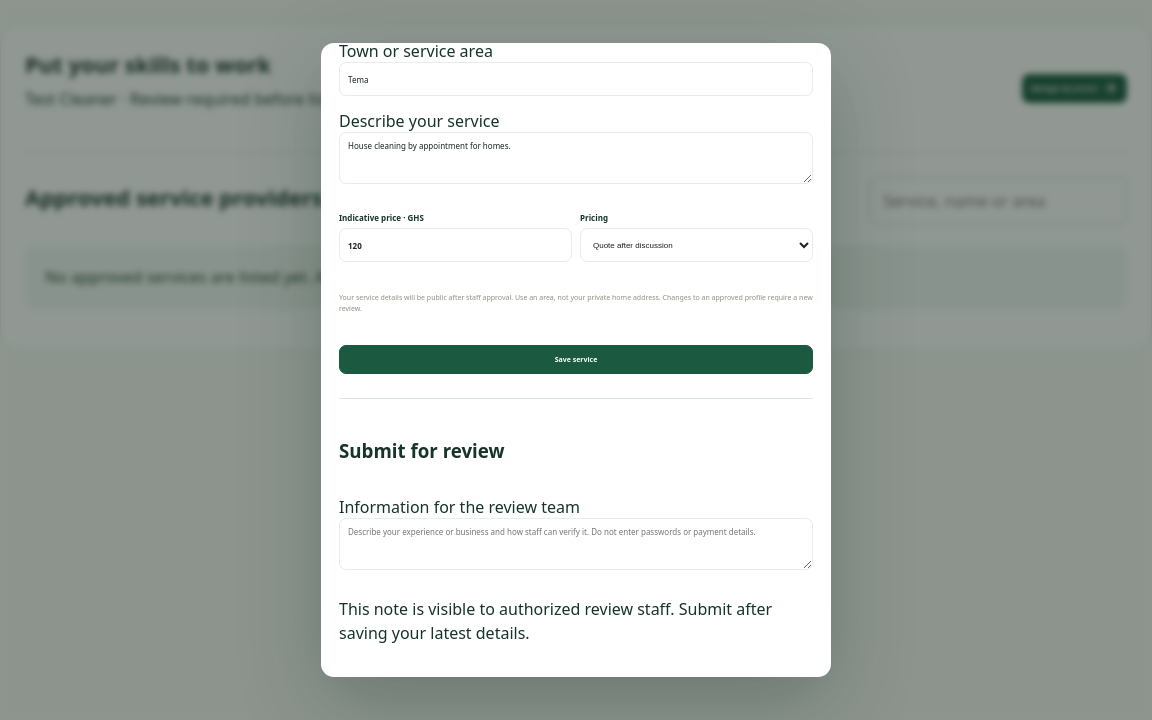
Test: provider onboarding › shows a failed save without claiming success
(page scrolled)
Click the button "Save service" at {"x": 576, "y": 360}, box [339,345,813,374]
(page scrolled)
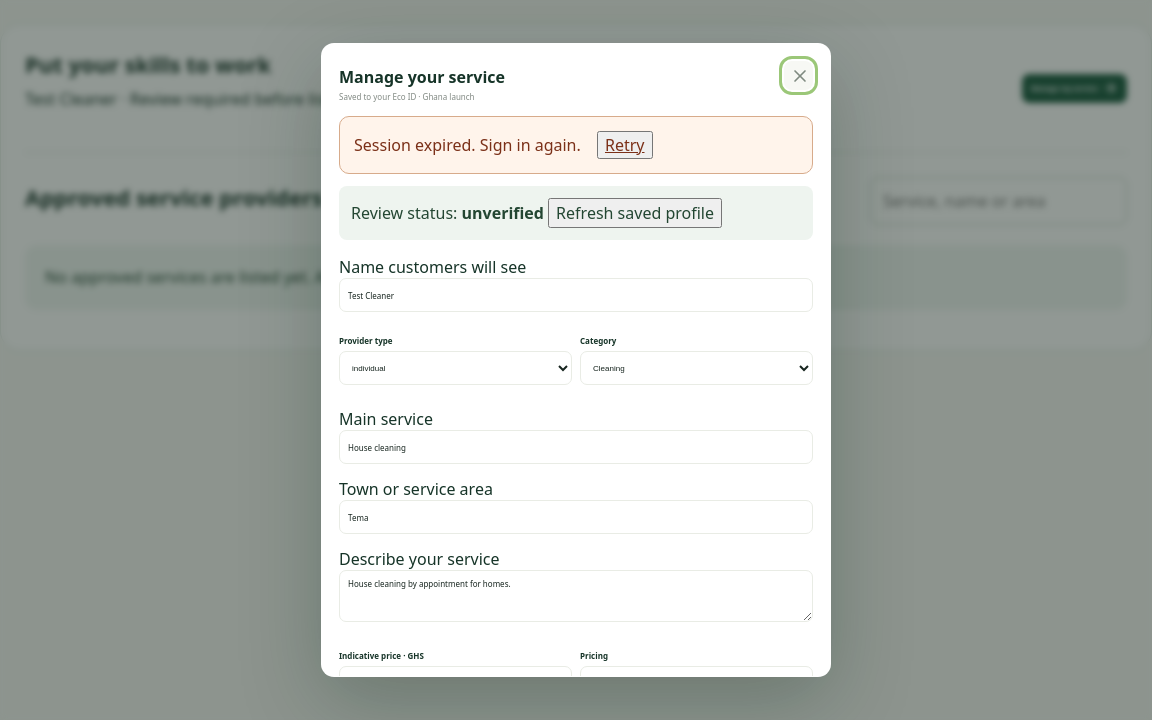
Expected: the message shows "Session expired", [354,134,581,156]
